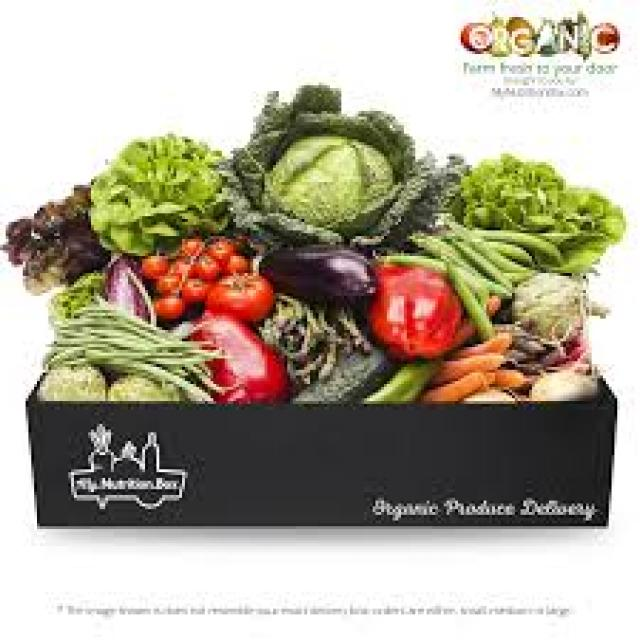organic waste: (219, 82, 469, 242), (444, 148, 620, 267), (86, 128, 228, 253), (46, 299, 230, 395), (0, 182, 105, 290), (358, 253, 464, 356), (375, 250, 495, 336), (498, 270, 603, 356), (262, 290, 361, 378), (190, 307, 282, 398), (427, 205, 529, 284), (410, 225, 506, 296), (250, 244, 373, 296), (288, 342, 392, 398), (461, 225, 557, 267), (100, 248, 154, 322), (205, 270, 270, 322), (356, 358, 435, 398), (34, 361, 105, 398), (418, 364, 489, 398), (105, 373, 185, 398), (430, 347, 500, 375), (526, 367, 592, 395), (54, 270, 97, 307), (447, 330, 512, 353), (469, 384, 518, 401), (153, 290, 185, 316), (489, 367, 529, 387), (136, 250, 168, 273), (151, 268, 182, 290), (216, 250, 248, 270), (176, 278, 205, 298), (188, 253, 213, 276), (202, 236, 233, 253), (174, 236, 199, 256)
